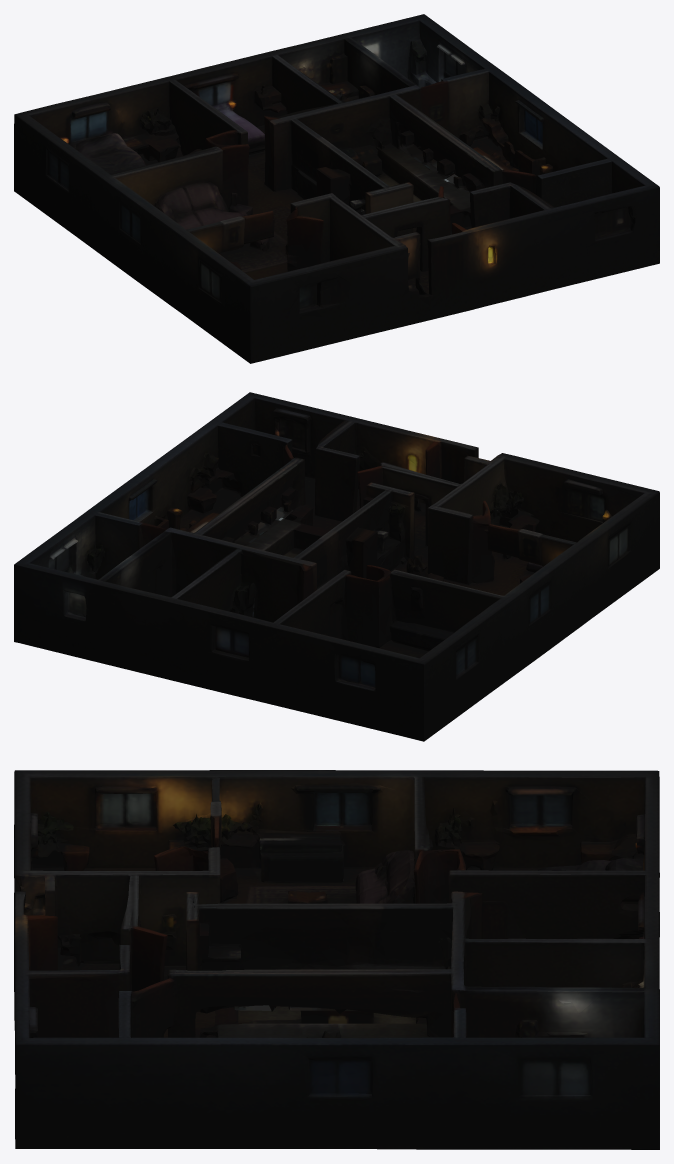
Rendered from maison.glb.
The picture shows the model from 3 angles, top to bottom: view 1: azimuth 30°, elevation 25°; view 2: azimuth 150°, elevation 25°; view 3: azimuth 270°, elevation 25°; orthographic projection. The views are drawn at different scales.
Parts seen in each view (by area): view 1: world; view 2: world; view 3: world.
Part boxes in pixels (x1,y1,x2,y2): world: [14, 14, 659, 363]; world: [14, 392, 659, 741]; world: [14, 770, 659, 1149].
Bounding box in the file's own units: 0.9999 × 0.1827 × 0.9967.
1 material, 1 textured.
